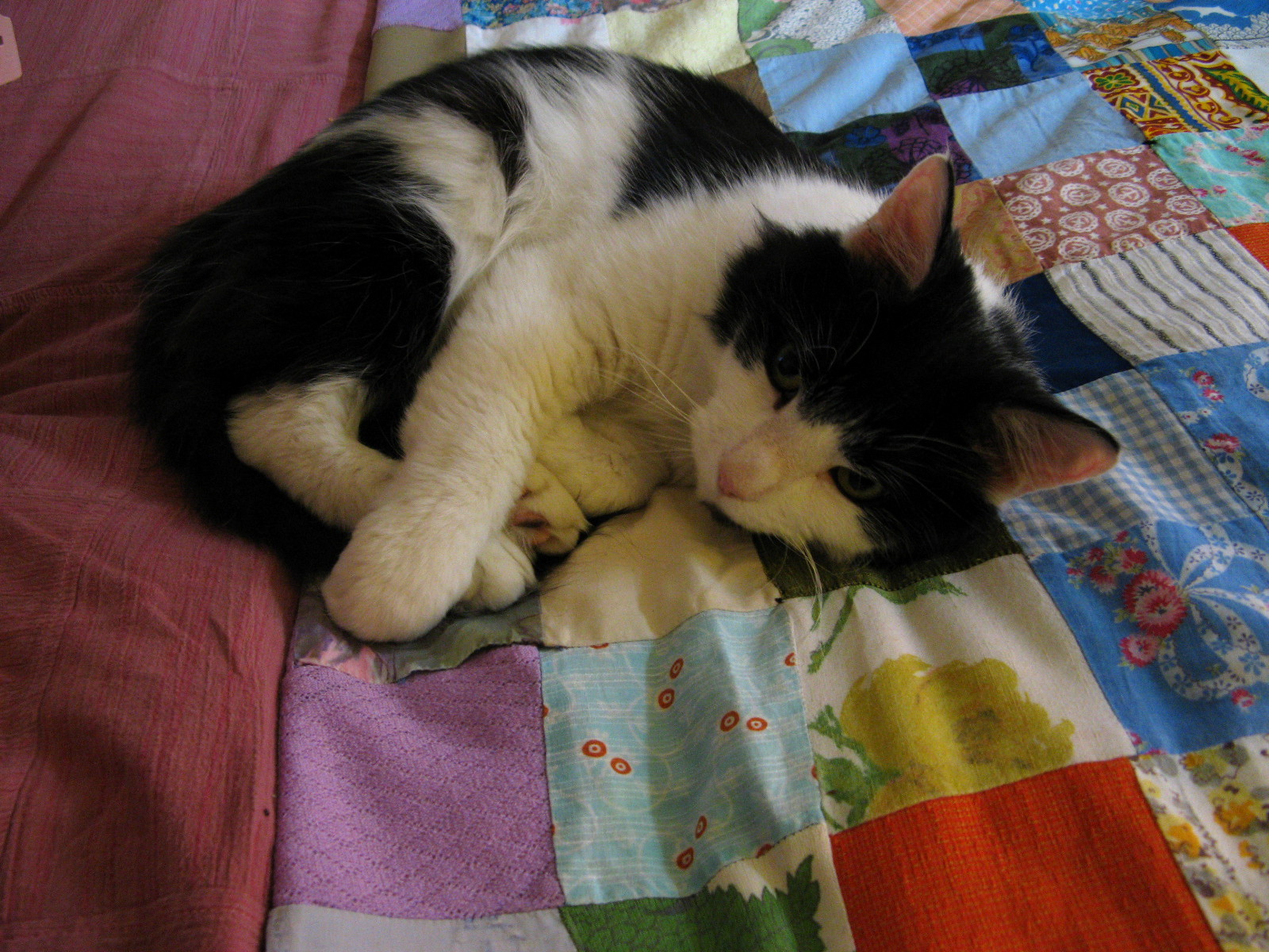cat: (126, 43, 1132, 639)
